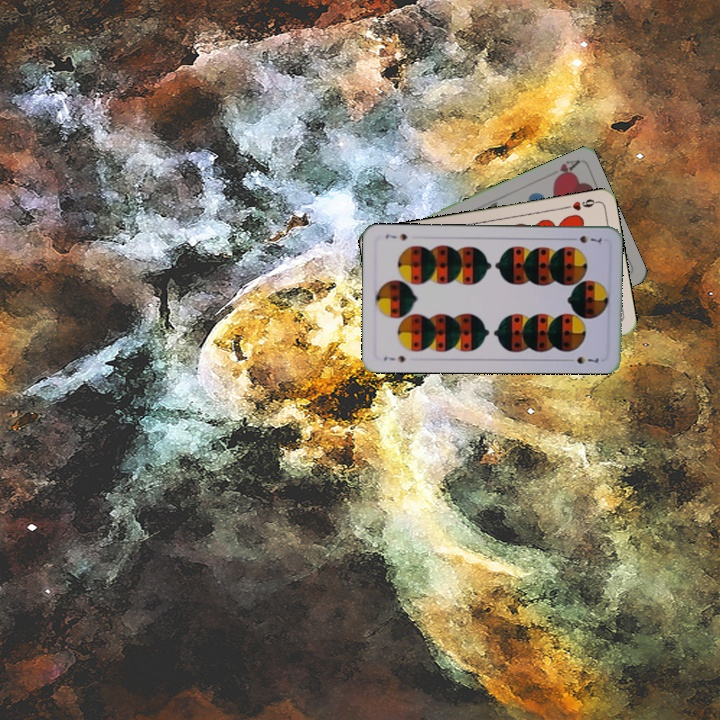H9: (560, 195, 600, 213)
HA: (544, 156, 582, 184)
S7: (566, 231, 604, 246), (380, 351, 408, 365)
